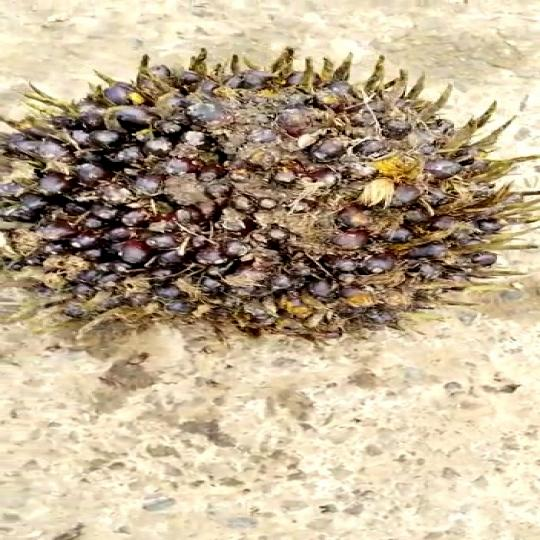mentah: (0, 49, 540, 348)
